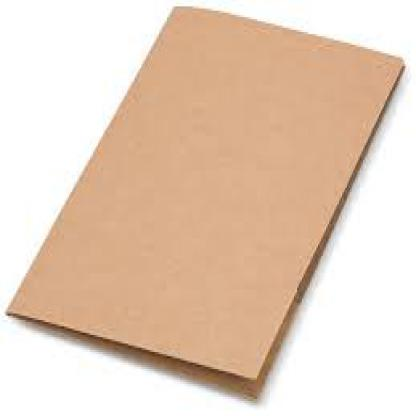CARDBOARD: (3, 4, 403, 393)
